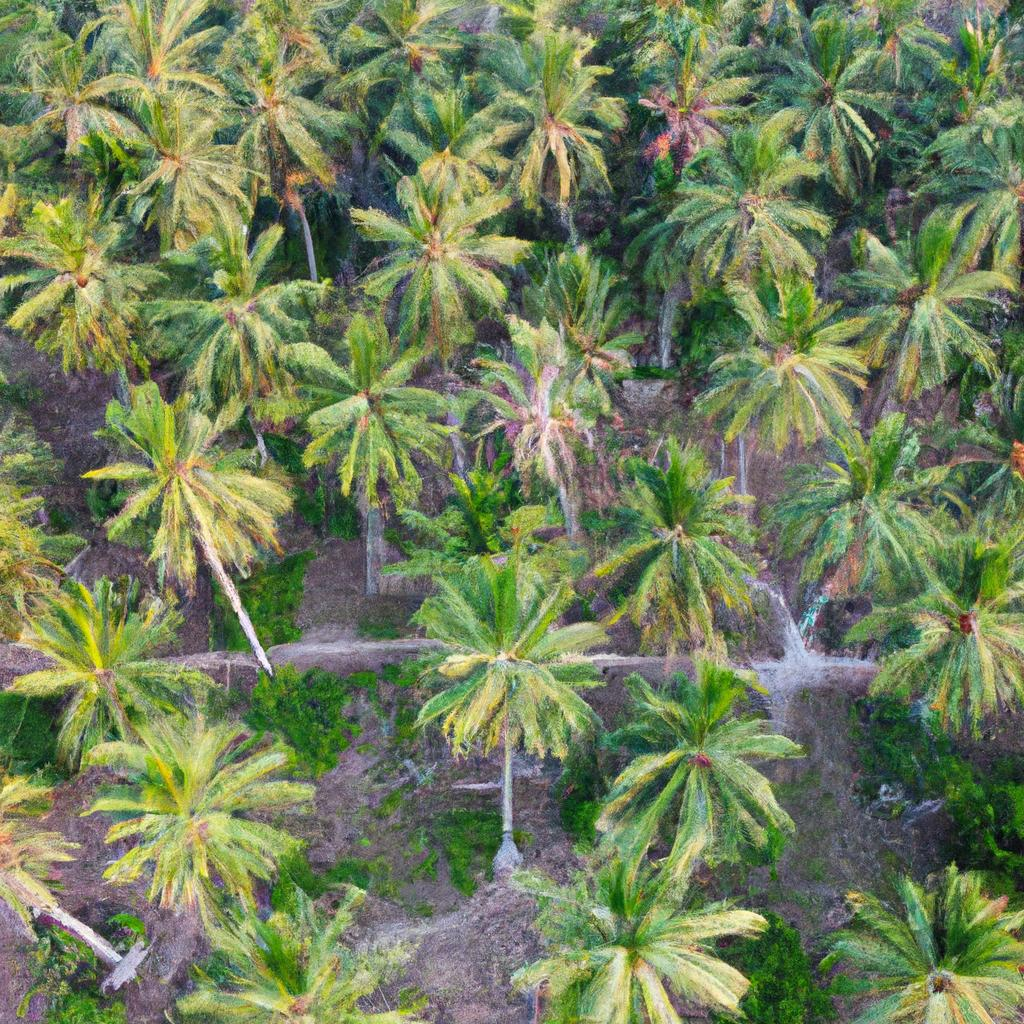coconut_tree: (83, 381, 302, 589), (94, 708, 316, 908), (602, 661, 815, 853), (518, 853, 758, 1023), (415, 564, 605, 767), (596, 443, 772, 635), (18, 589, 212, 758), (864, 534, 1023, 735), (301, 318, 455, 510), (843, 223, 1008, 394), (707, 275, 870, 448), (150, 237, 331, 389), (669, 128, 832, 291), (1, 204, 167, 354), (350, 175, 520, 315), (501, 43, 629, 193), (86, 5, 223, 108)
